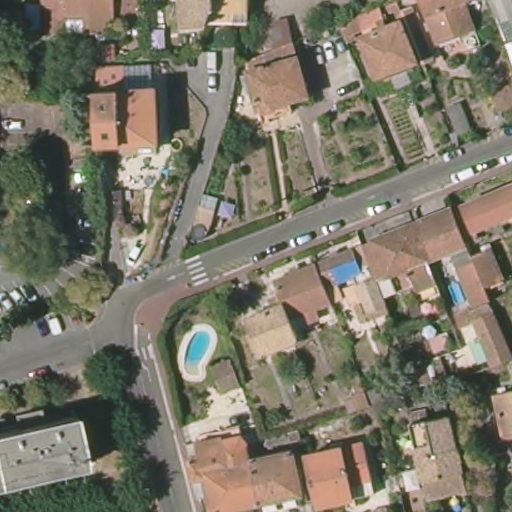pool: (180, 323, 213, 378), (325, 258, 366, 287), (445, 274, 466, 307)
